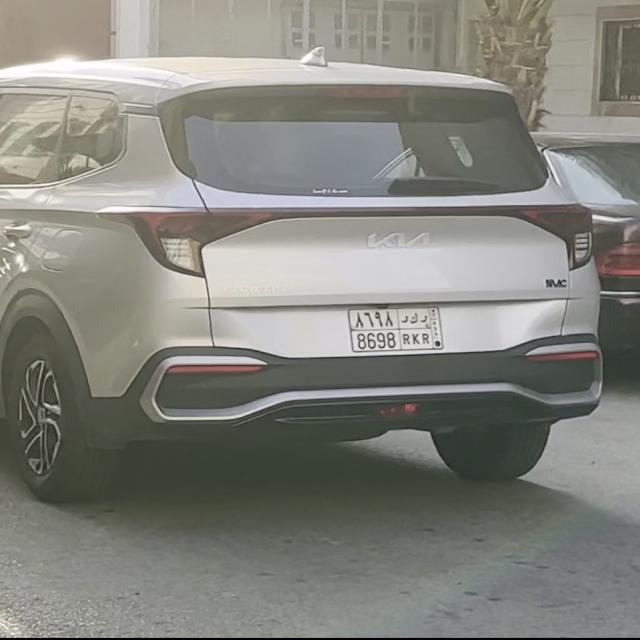Car-plate: (341, 300, 456, 357)
